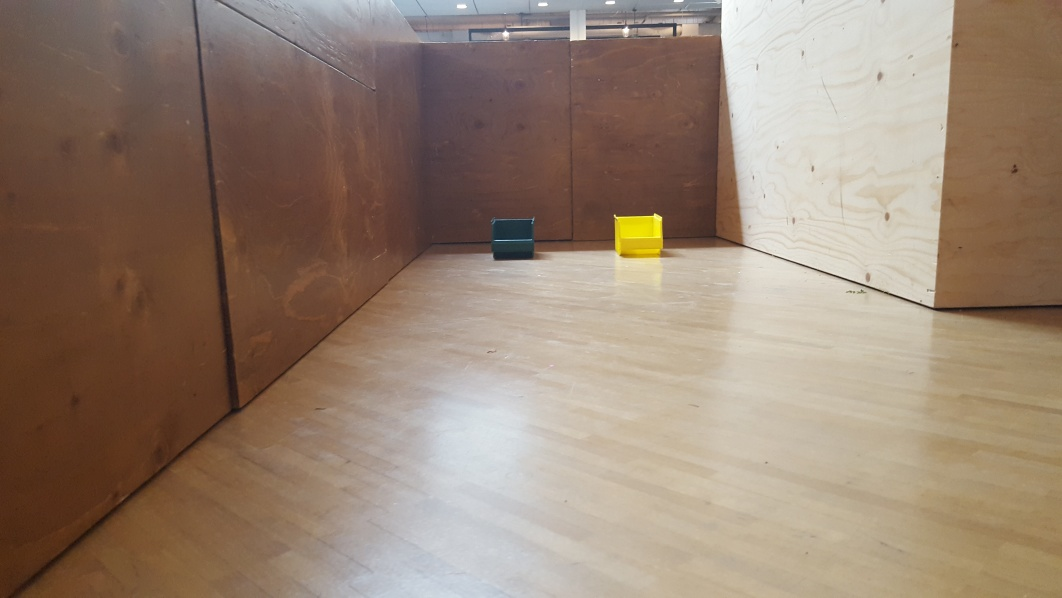tray: (608, 210, 666, 256), (488, 214, 541, 257)
